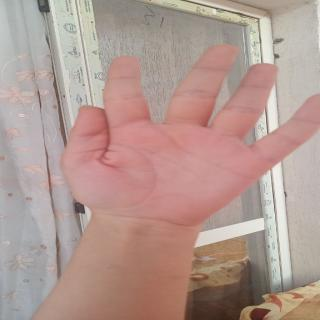SHEEN: (48, 38, 320, 224)
